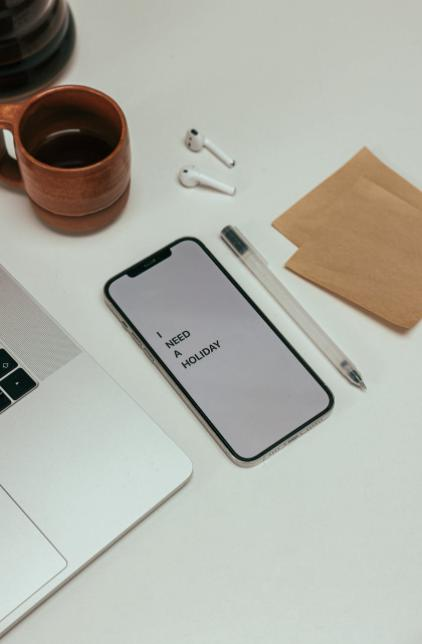mobile: (102, 238, 335, 469)
